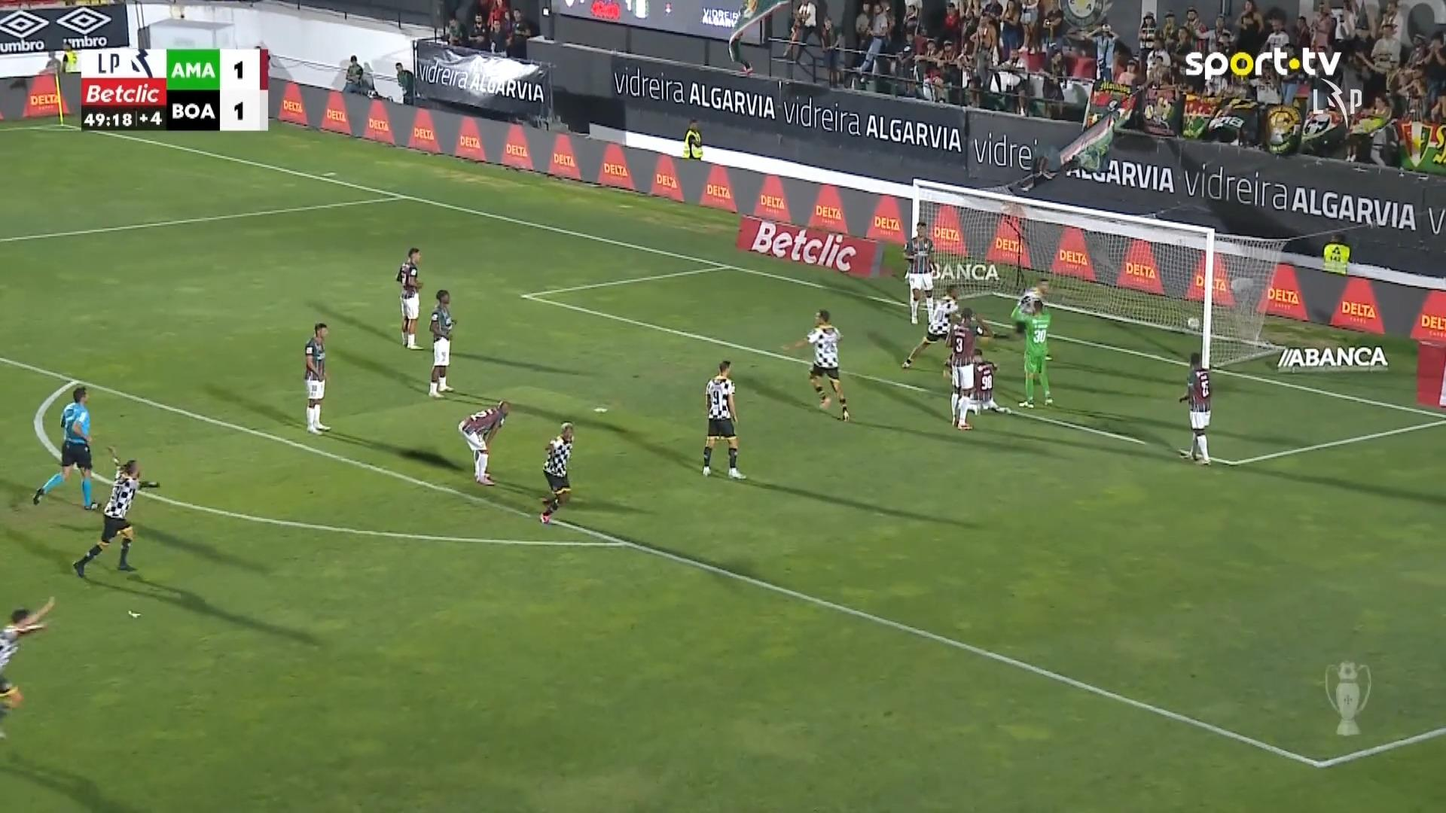ball: (1188, 314, 1202, 332)
goalkeeper: (1008, 286, 1054, 407)
player: (72, 445, 160, 577), (0, 594, 56, 735), (782, 308, 850, 421), (943, 306, 993, 430), (700, 359, 746, 480), (457, 399, 510, 486), (901, 290, 959, 369), (1178, 351, 1213, 465), (901, 220, 939, 324), (538, 421, 575, 524), (427, 288, 456, 398), (303, 322, 331, 434), (395, 246, 425, 349), (969, 346, 1011, 413)
referee: (32, 385, 99, 510)
